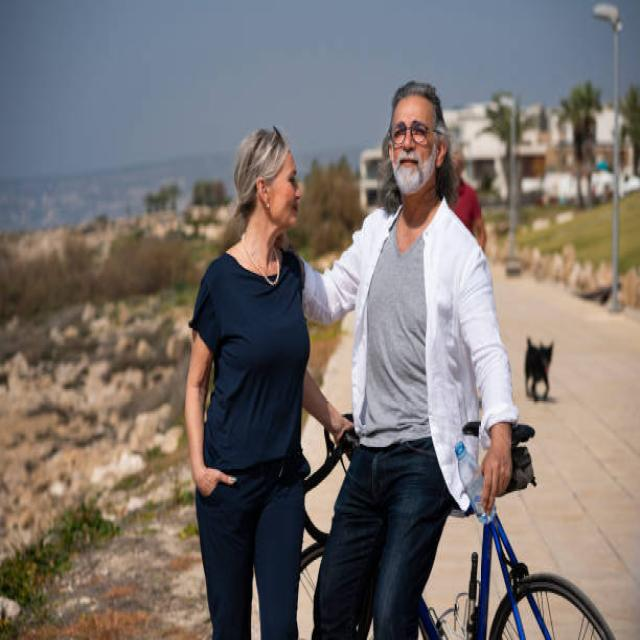Real human 2: (179, 67, 524, 640)
